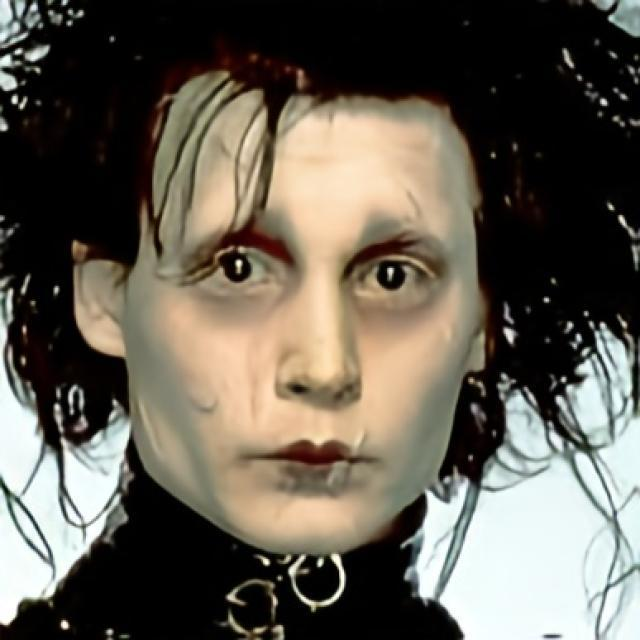sad: (124, 91, 484, 558)
